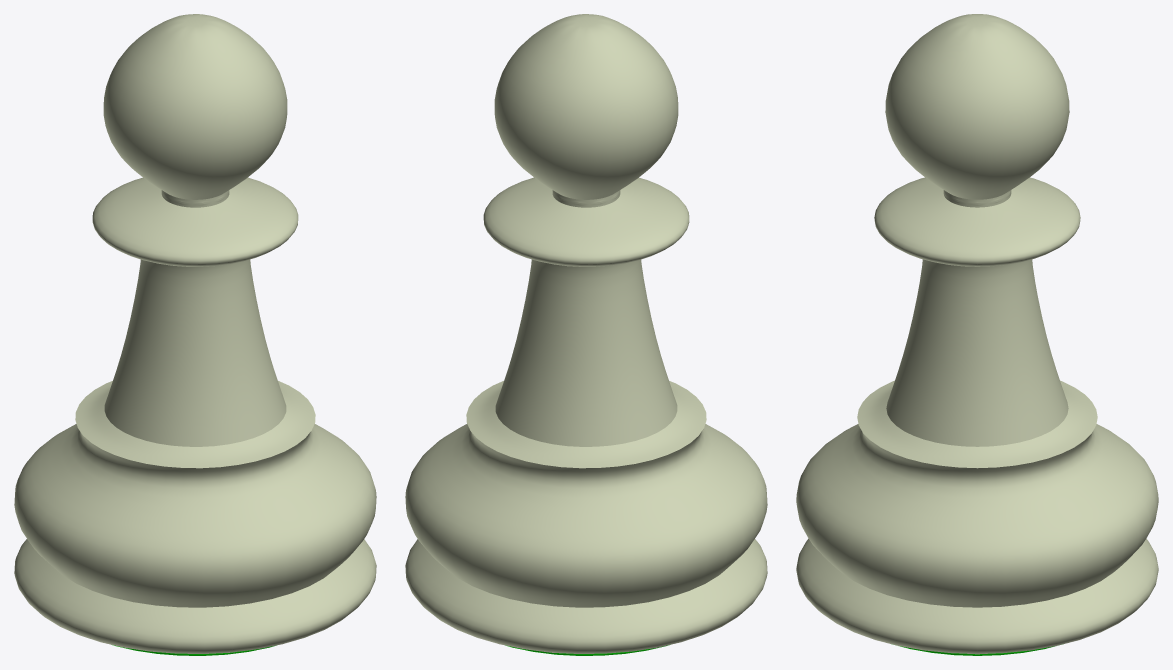
Rendered from Pawn.FBX.
3 views of the same model, side by side, from view 1: azimuth 30°, elevation 25°; view 2: azimuth 150°, elevation 25°; view 3: azimuth 270°, elevation 25° (orthographic).
Parts seen in each view (by area): view 1: pawn_copy18; view 2: pawn_copy18; view 3: pawn_copy18.
Boxes of the visible parts, x1=… form: pawn_copy18: x1=14, y1=14, x2=376, y2=655; pawn_copy18: x1=405, y1=14, x2=767, y2=655; pawn_copy18: x1=796, y1=14, x2=1158, y2=655.
Bounding box in the file's own units: 1.59 × 2.77 × 1.59.
